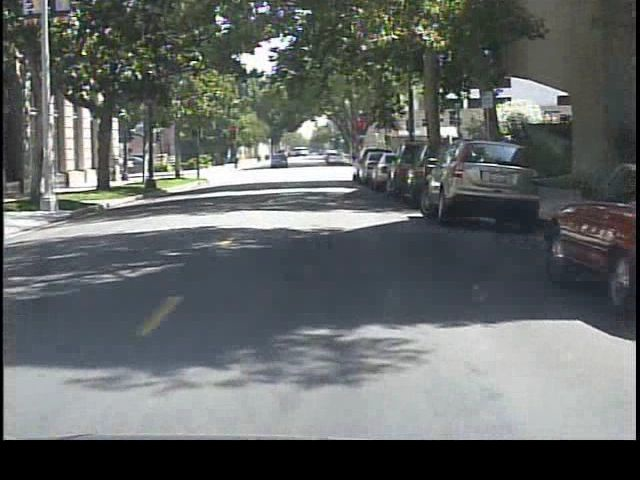person: (231, 145, 242, 169)
